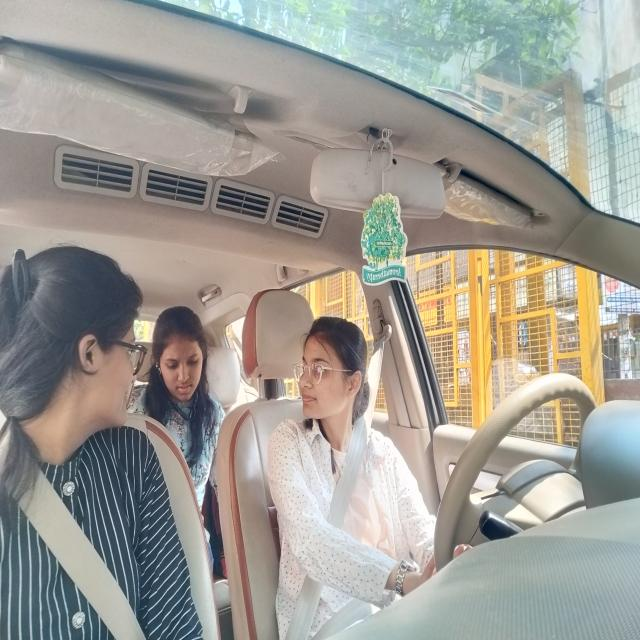LeftRight: (298, 316, 373, 428)
person: (29, 239, 147, 452), (150, 304, 212, 408)
